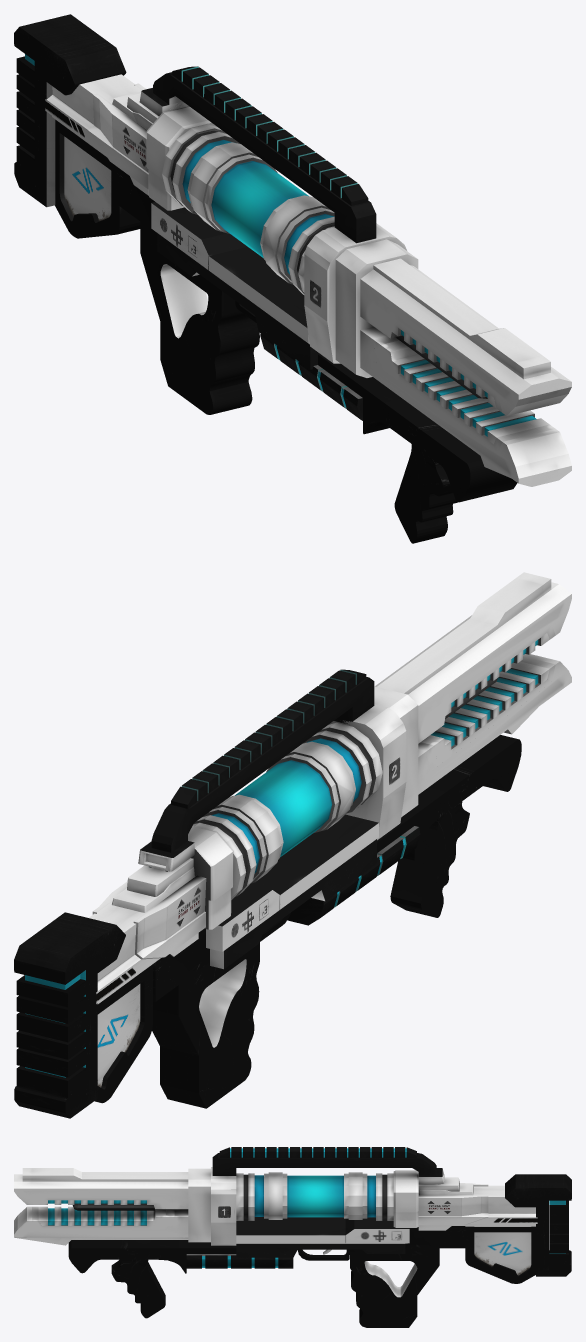
Rendered from rifleJuego.obj.
3 views of the same model, one above another, from view 1: azimuth 30°, elevation 25°; view 2: azimuth 150°, elevation 25°; view 3: azimuth 270°, elevation 25° (orthographic). The views are drawn at different scales.
Parts seen in each view (by area): view 1: group7 group6 group5 group4 group3 group2 group1 Line0010, Line018 group7 group6 group5 group4 group3 group2 group1; view 2: group7 group6 group5 group4 group3 group2 group1 Line0010, Line018 group7 group6 group5 group4 group3 group2 group1; view 3: group7 group6 group5 group4 group3 group2 group1 Line0010, Line018 group7 group6 group5 group4 group3 group2 group1.
Boxes of the visible parts, <box> form: group7 group6 group5 group4 group3 group2 group1 Line0010: <box>45,66,571,486</box>; Line018 group7 group6 group5 group4 group3 group2 group1: <box>14,14,517,543</box>; group7 group6 group5 group4 group3 group2 group1 Line0010: <box>89,572,571,1003</box>; Line018 group7 group6 group5 group4 group3 group2 group1: <box>14,735,521,1118</box>; group7 group6 group5 group4 group3 group2 group1 Line0010: <box>14,1147,537,1245</box>; Line018 group7 group6 group5 group4 group3 group2 group1: <box>68,1174,571,1327</box>.
Bounding box in the file's own units: 0.3797 × 1.43 × 4.16.
2 materials, 2 textured.
